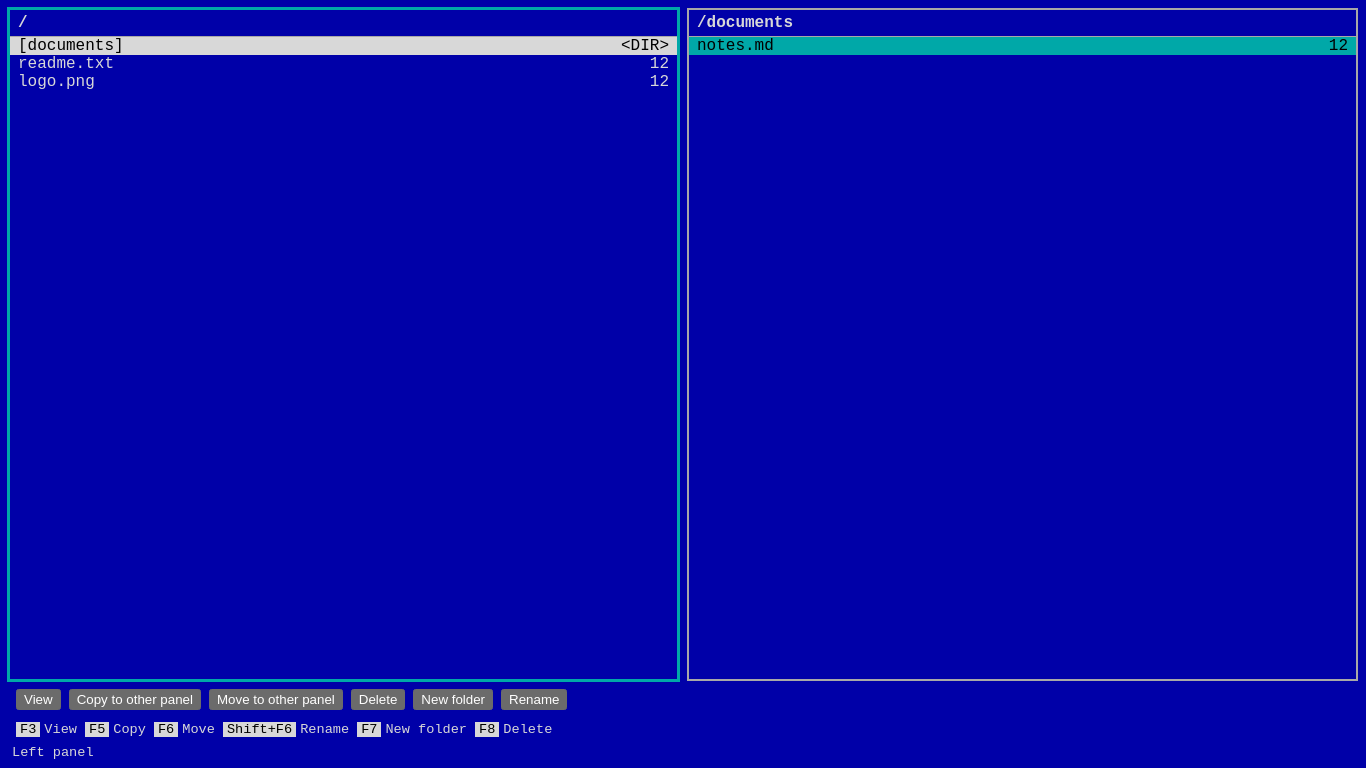
§REQ:TWO-PNL-NVGT-OOX-090 previewing the selected text file › §REQ:TWO-PNL-NVGT-OOX-090 the preview can be closed
Click the option "readme.txt 12".
click(66, 64)  # box [10,55,677,73]
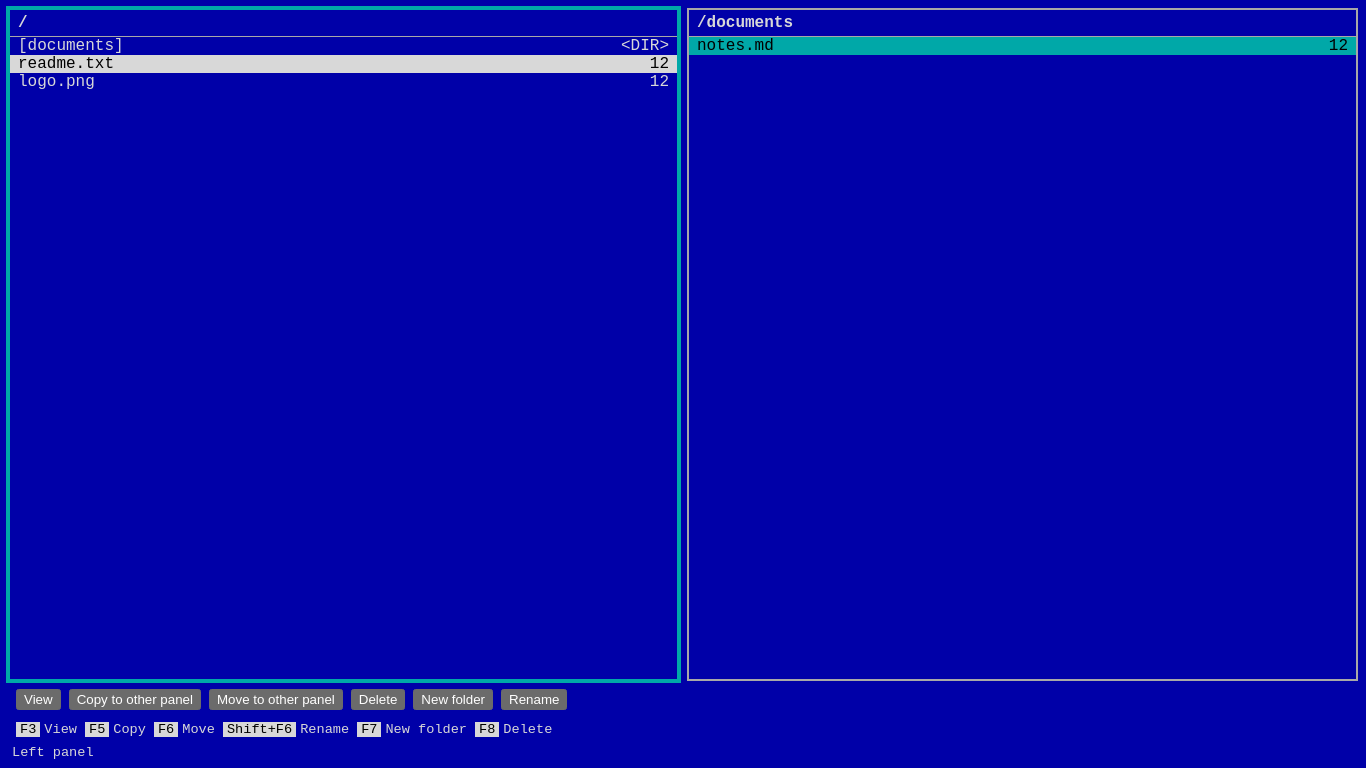
Click the button "View".
click(38, 700)  # box [16,689,61,710]
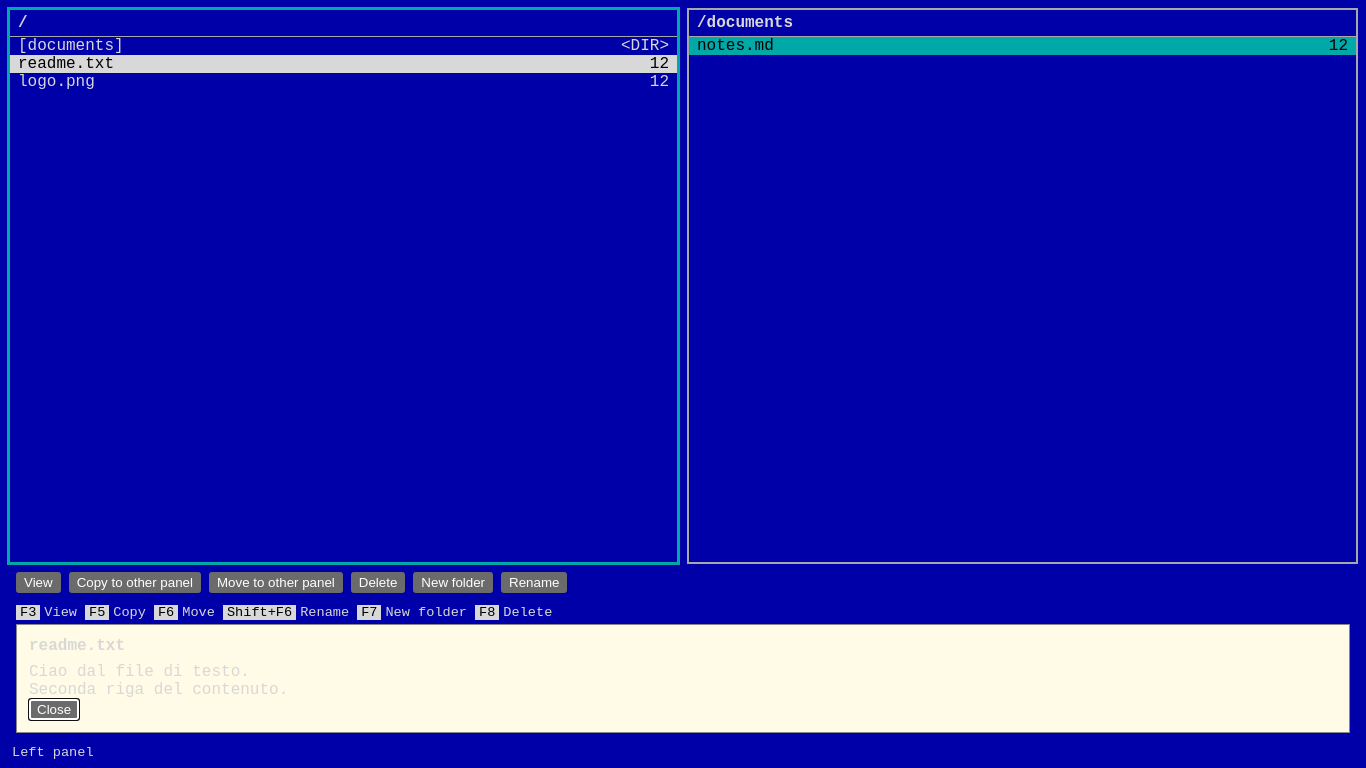
Click the button "Close".
click(54, 710)  # box [29,699,79,720]
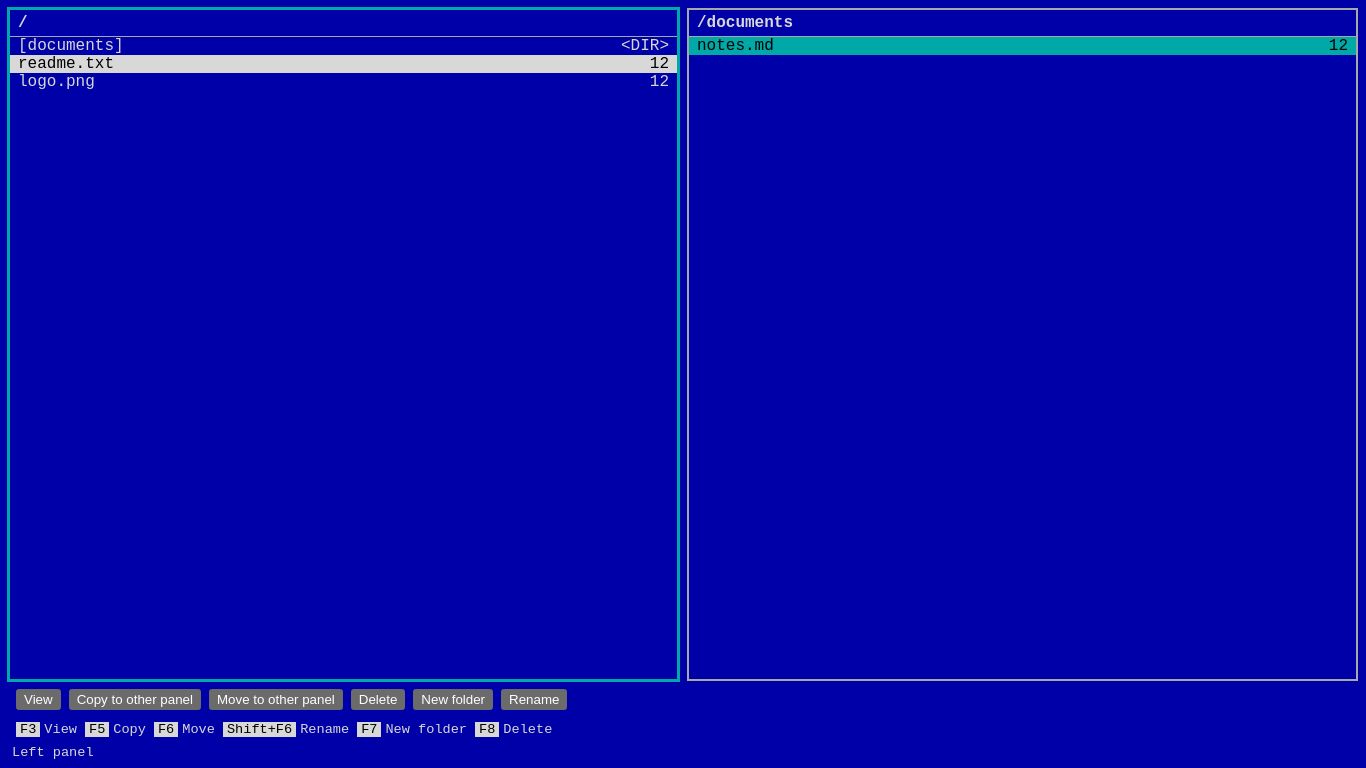
Expected: the text "Ciao dal file di testo." is gone
